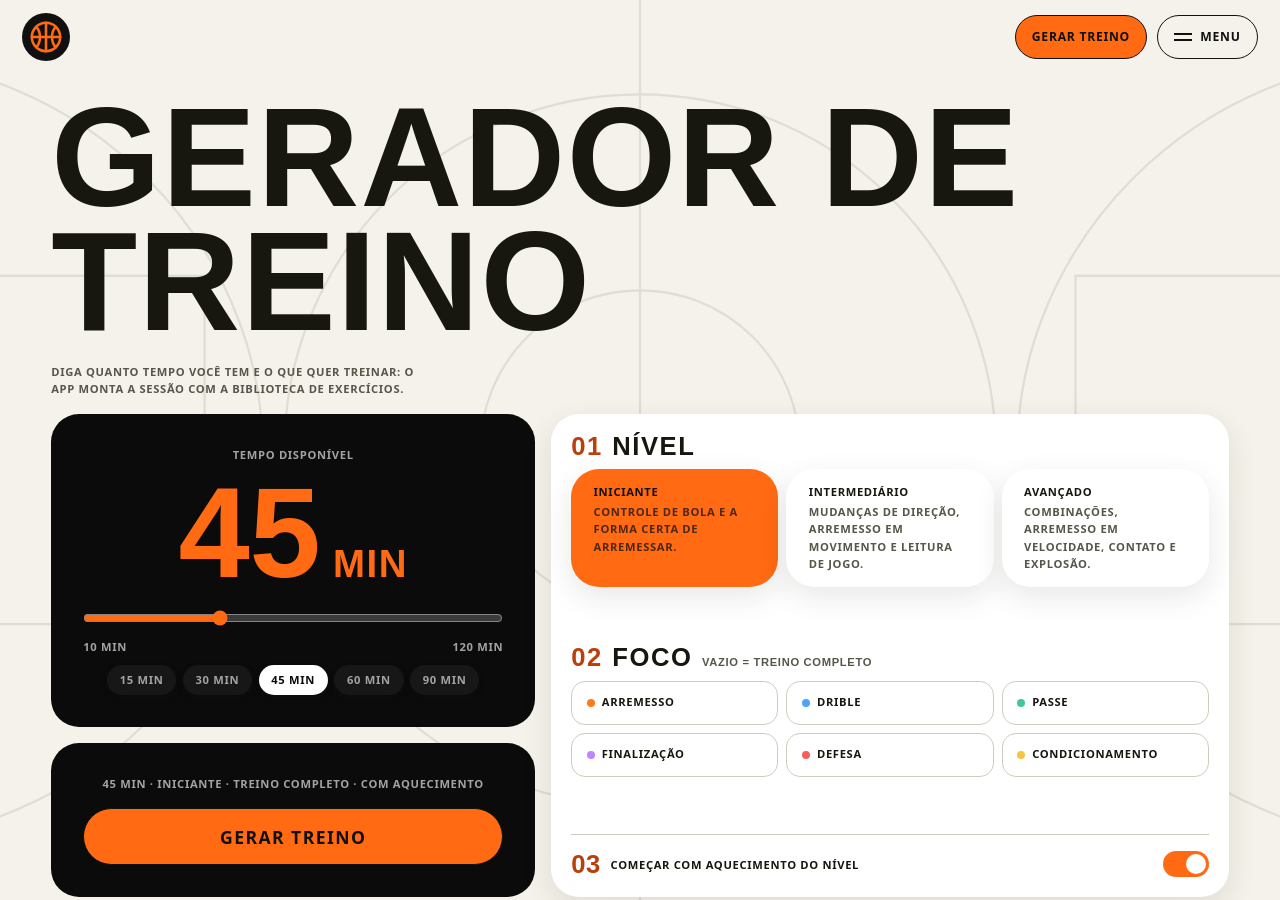
Test: Gerador de treino › pede o treino com o tempo, o foco e o aquecimento escolhidos
The width and height of the screenshot is (1280, 900).
Click the button "Arremesso": click(675, 703) [571, 681, 778, 725]
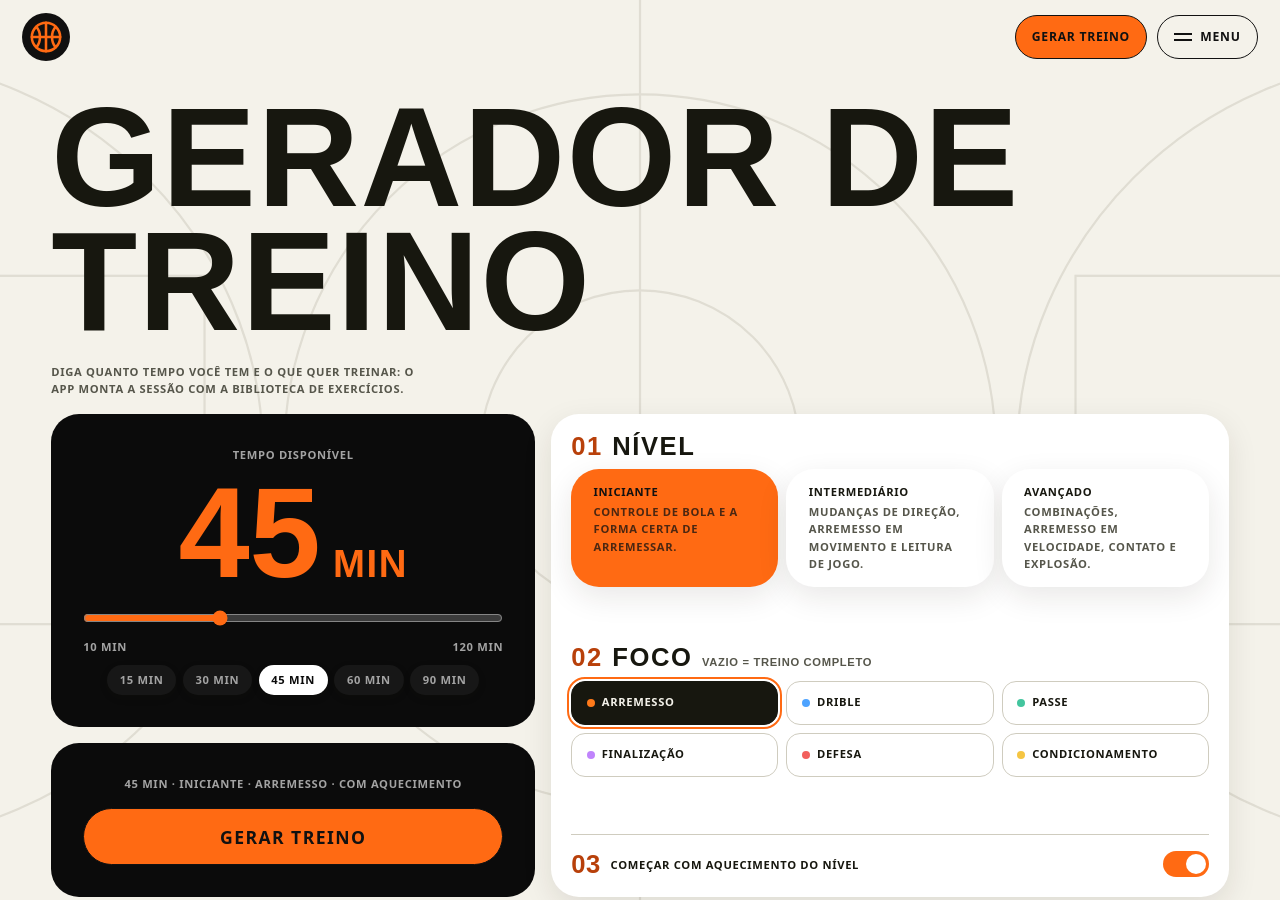
Click the button "Defesa": click(890, 755) [786, 733, 994, 777]
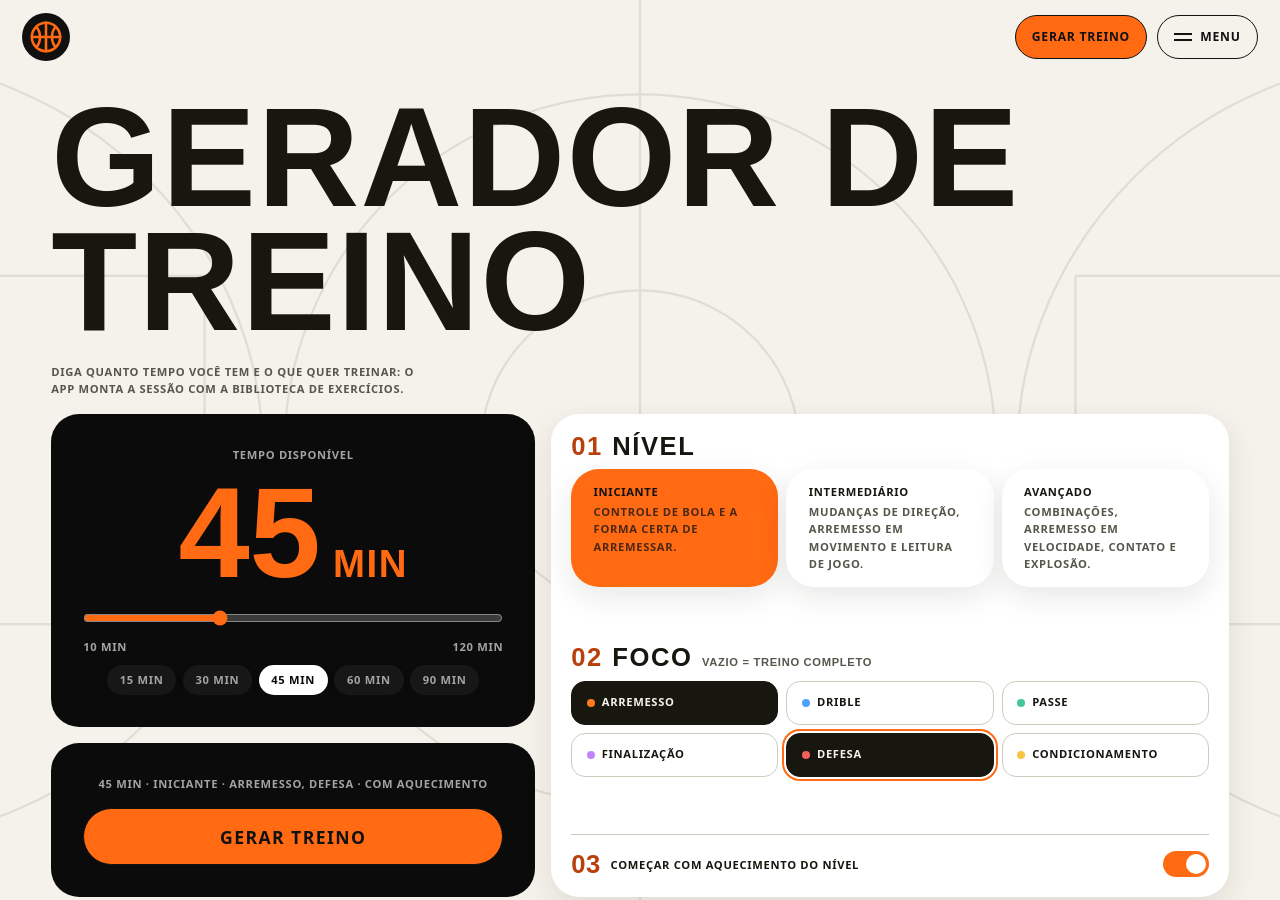
Click the button "Defesa": click(890, 755) [786, 733, 994, 777]
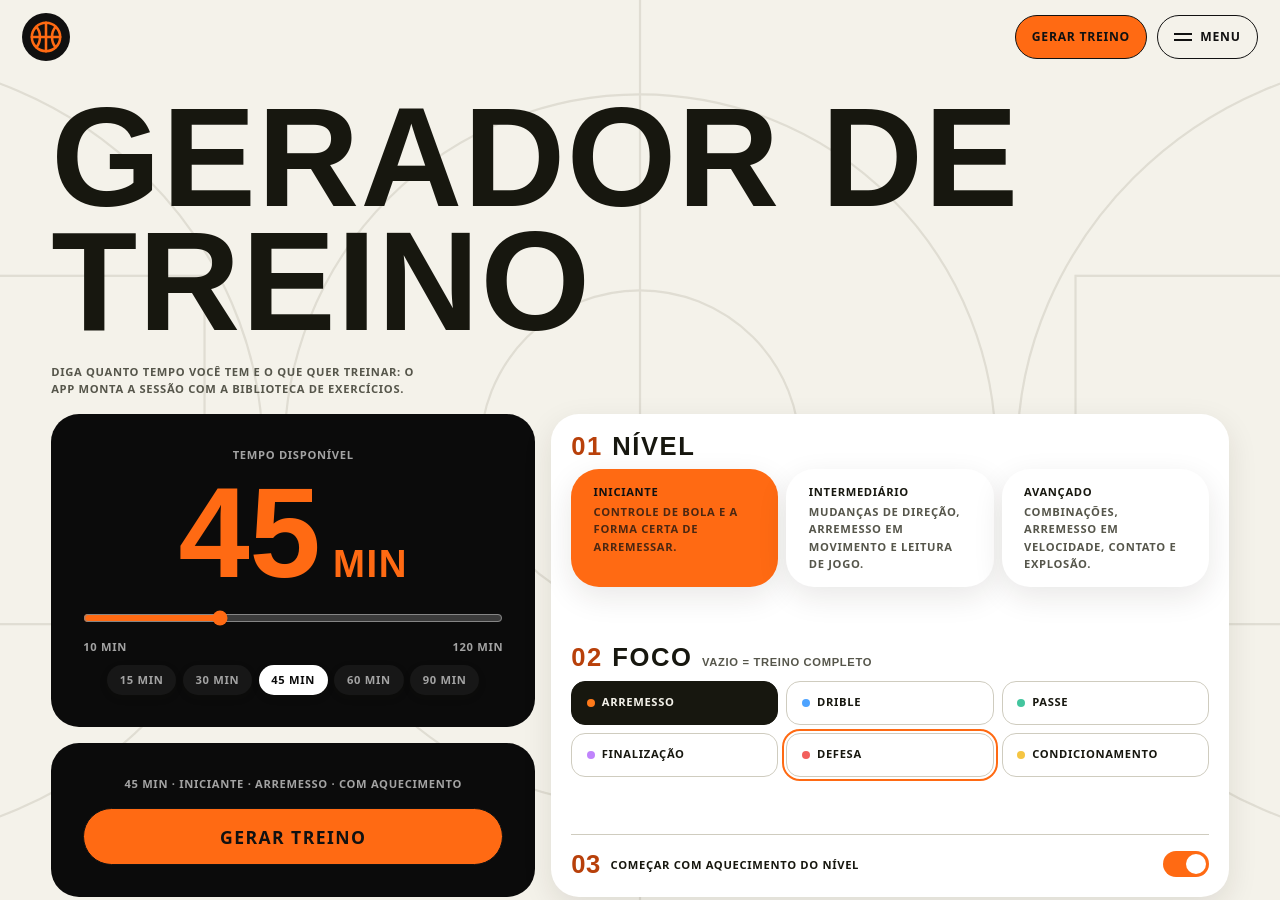
Click the checkbox labelled "03 Começar com aquecimento do nível": click(1186, 864) [1163, 852, 1209, 878]
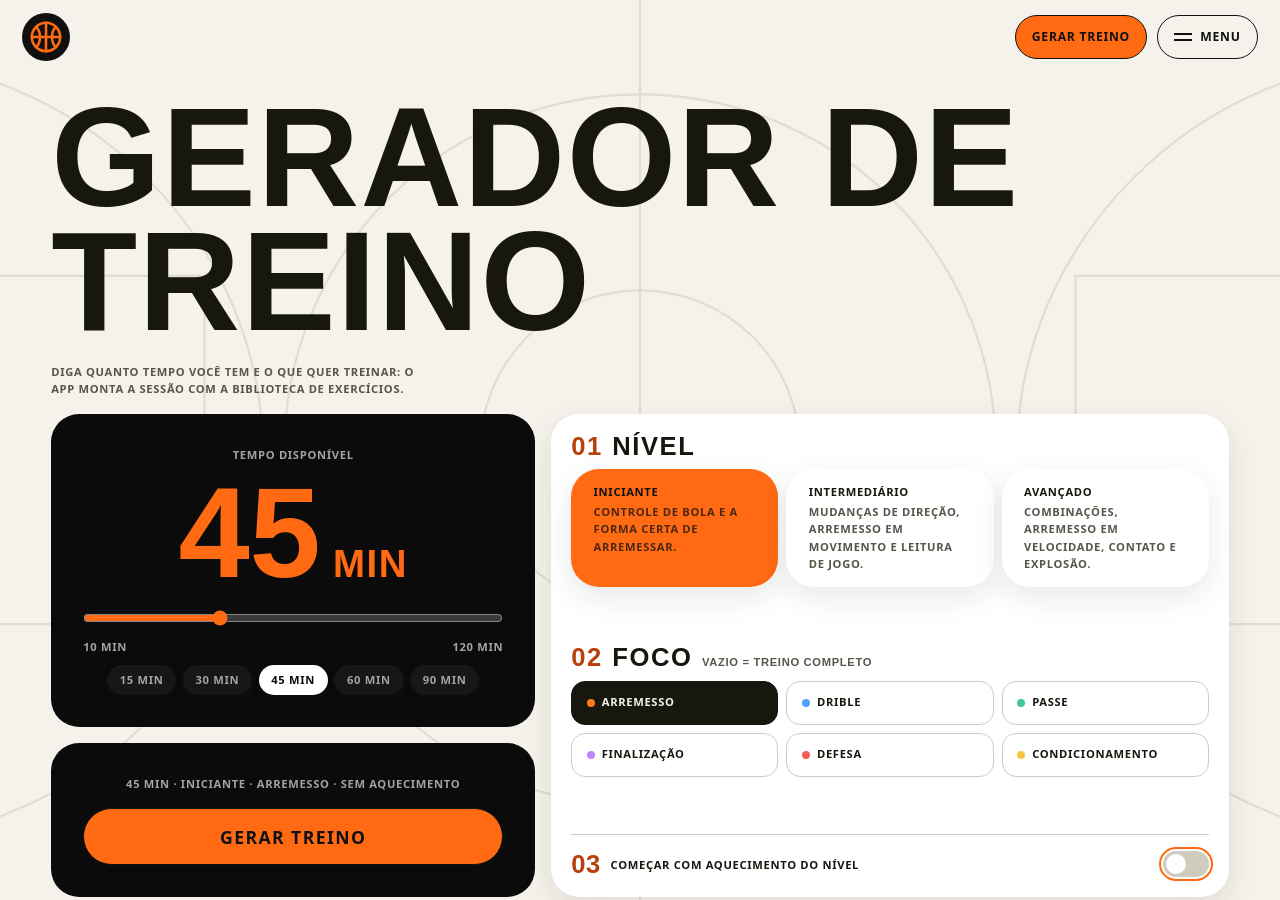
Click the button "Gerar treino": click(293, 837) [83, 808, 503, 866]
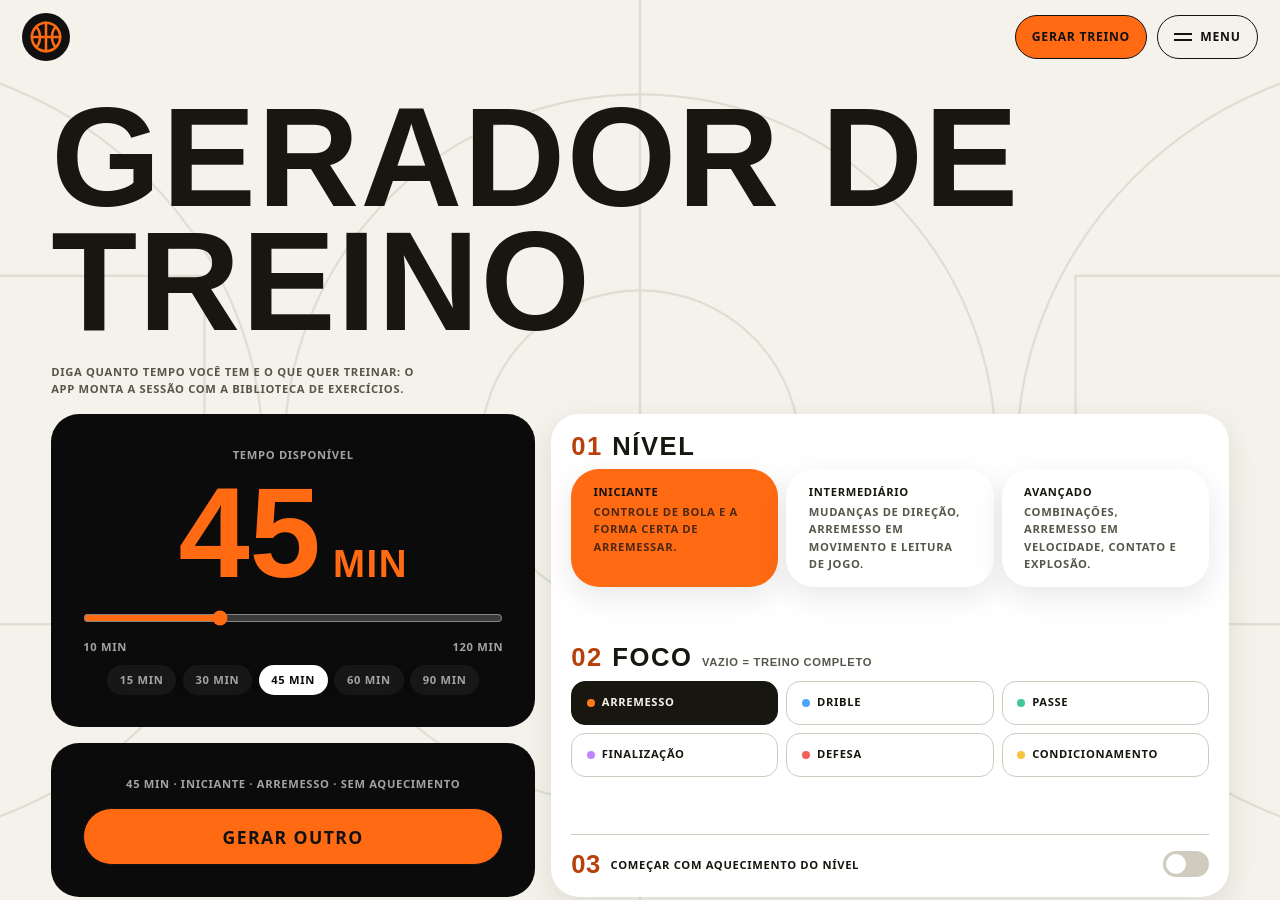
Now the button "Gerar outro" is shown, box [83, 808, 503, 866]
